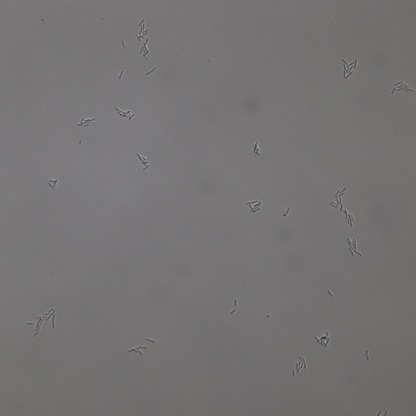R(colony): (330, 187, 354, 226), (27, 309, 56, 337), (291, 356, 307, 377), (392, 80, 416, 93), (342, 58, 358, 77), (346, 237, 361, 257), (135, 19, 148, 42), (314, 332, 332, 348), (115, 107, 134, 120), (246, 199, 263, 213), (140, 39, 150, 60), (138, 153, 149, 172), (76, 117, 95, 128), (250, 141, 262, 158), (128, 345, 147, 355), (47, 179, 58, 189)
